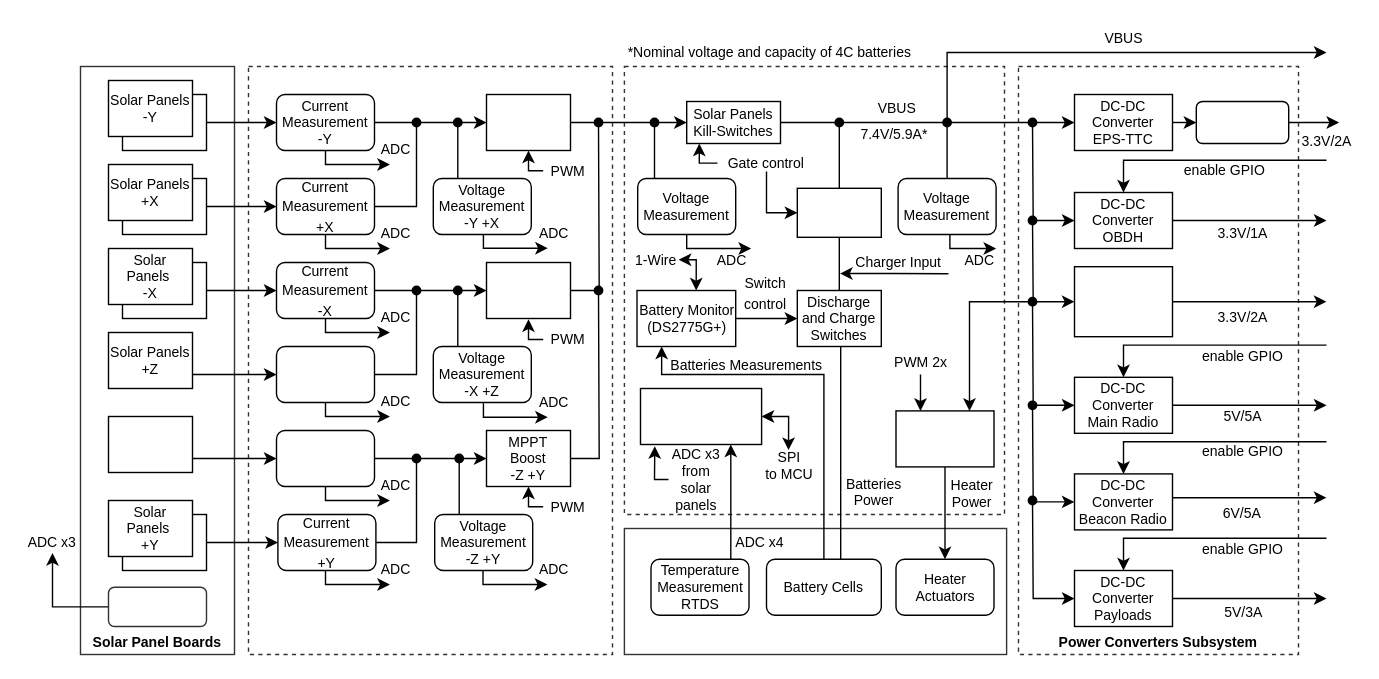
Some shapes in this 1379 by 679 pixel diagram are drawn without their labels. The shapes that lost their labels are listed below. From the top down, each one's box as (x1, y1, x2, y2) in pixels, then its label:
(485, 93, 570, 150): MPPT Boost -Y +X
(1195, 100, 1289, 144): Current Measurement
(796, 187, 881, 237): Batteries Kill-Switches
(485, 261, 570, 318): MPPT Boost -X +Z
(623, 65, 1004, 514): Batteries Management Subsystem
(1073, 265, 1172, 337): DC-DC Converter Antenna Deployer
(275, 345, 374, 402): Current Measurement +Z
(247, 65, 612, 654): Maximum Power Point Tracking (MPPT) Subsystem
(639, 387, 762, 444): Extenal ADC (ADS1248IPW)
(107, 415, 192, 472): Solar Panels -Z
(275, 429, 374, 486): Current Measurement -Z
(895, 410, 994, 467): Heater Drivers
(107, 586, 206, 626): RTDs on Solar Panels
(623, 527, 1007, 654): Batteries Daughterboard
